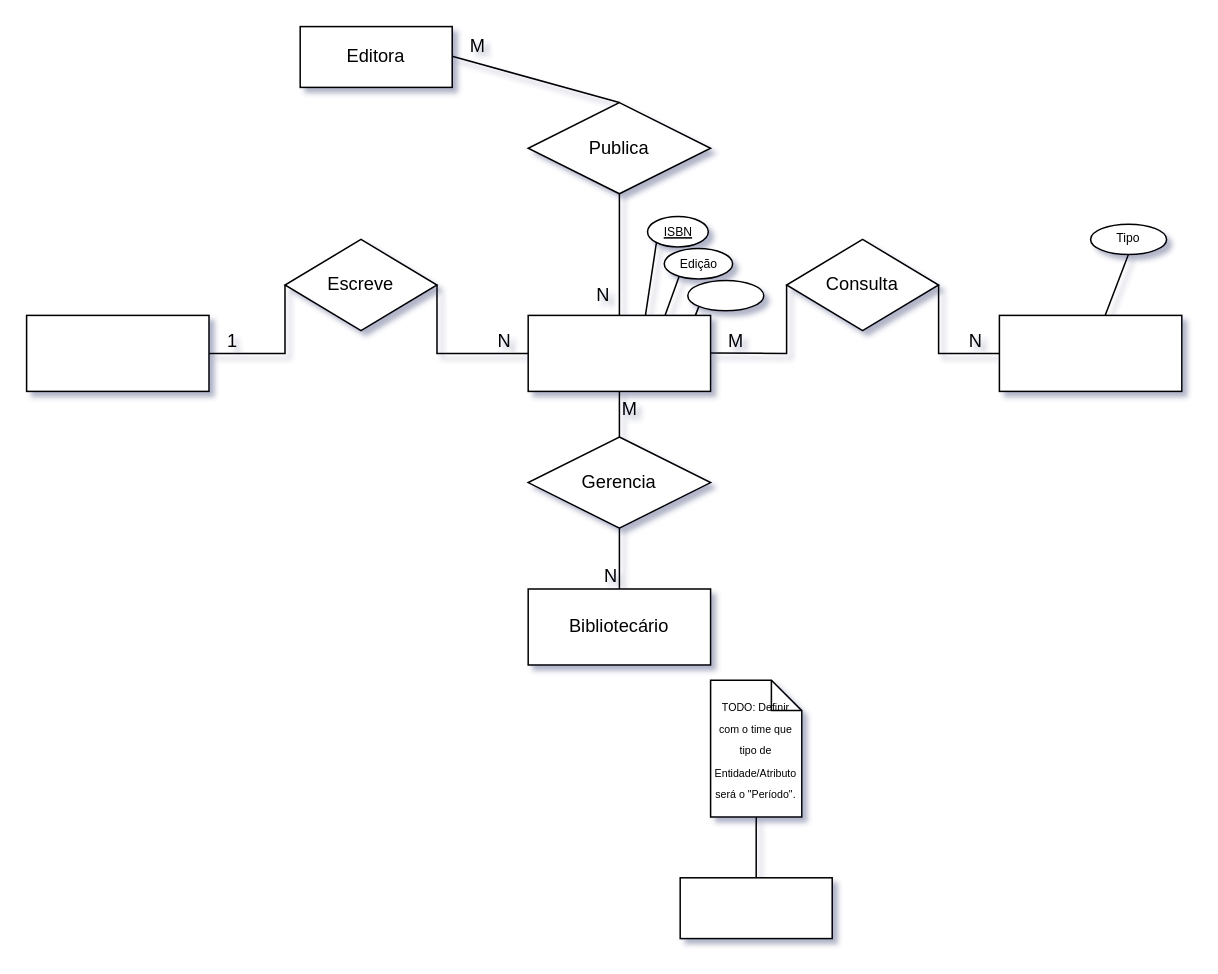
Some shapes in this 1218 by 974 pixel diagram are drawn without their labels. The box of each missing label's shape, as (x1, y1, x2, y2) in pixels:
Autor: (25, 314, 209, 391)
Examplares: (686, 279, 764, 311)
Livro: (527, 314, 711, 391)
Período: (679, 876, 832, 939)
Usuário: (998, 314, 1182, 391)
